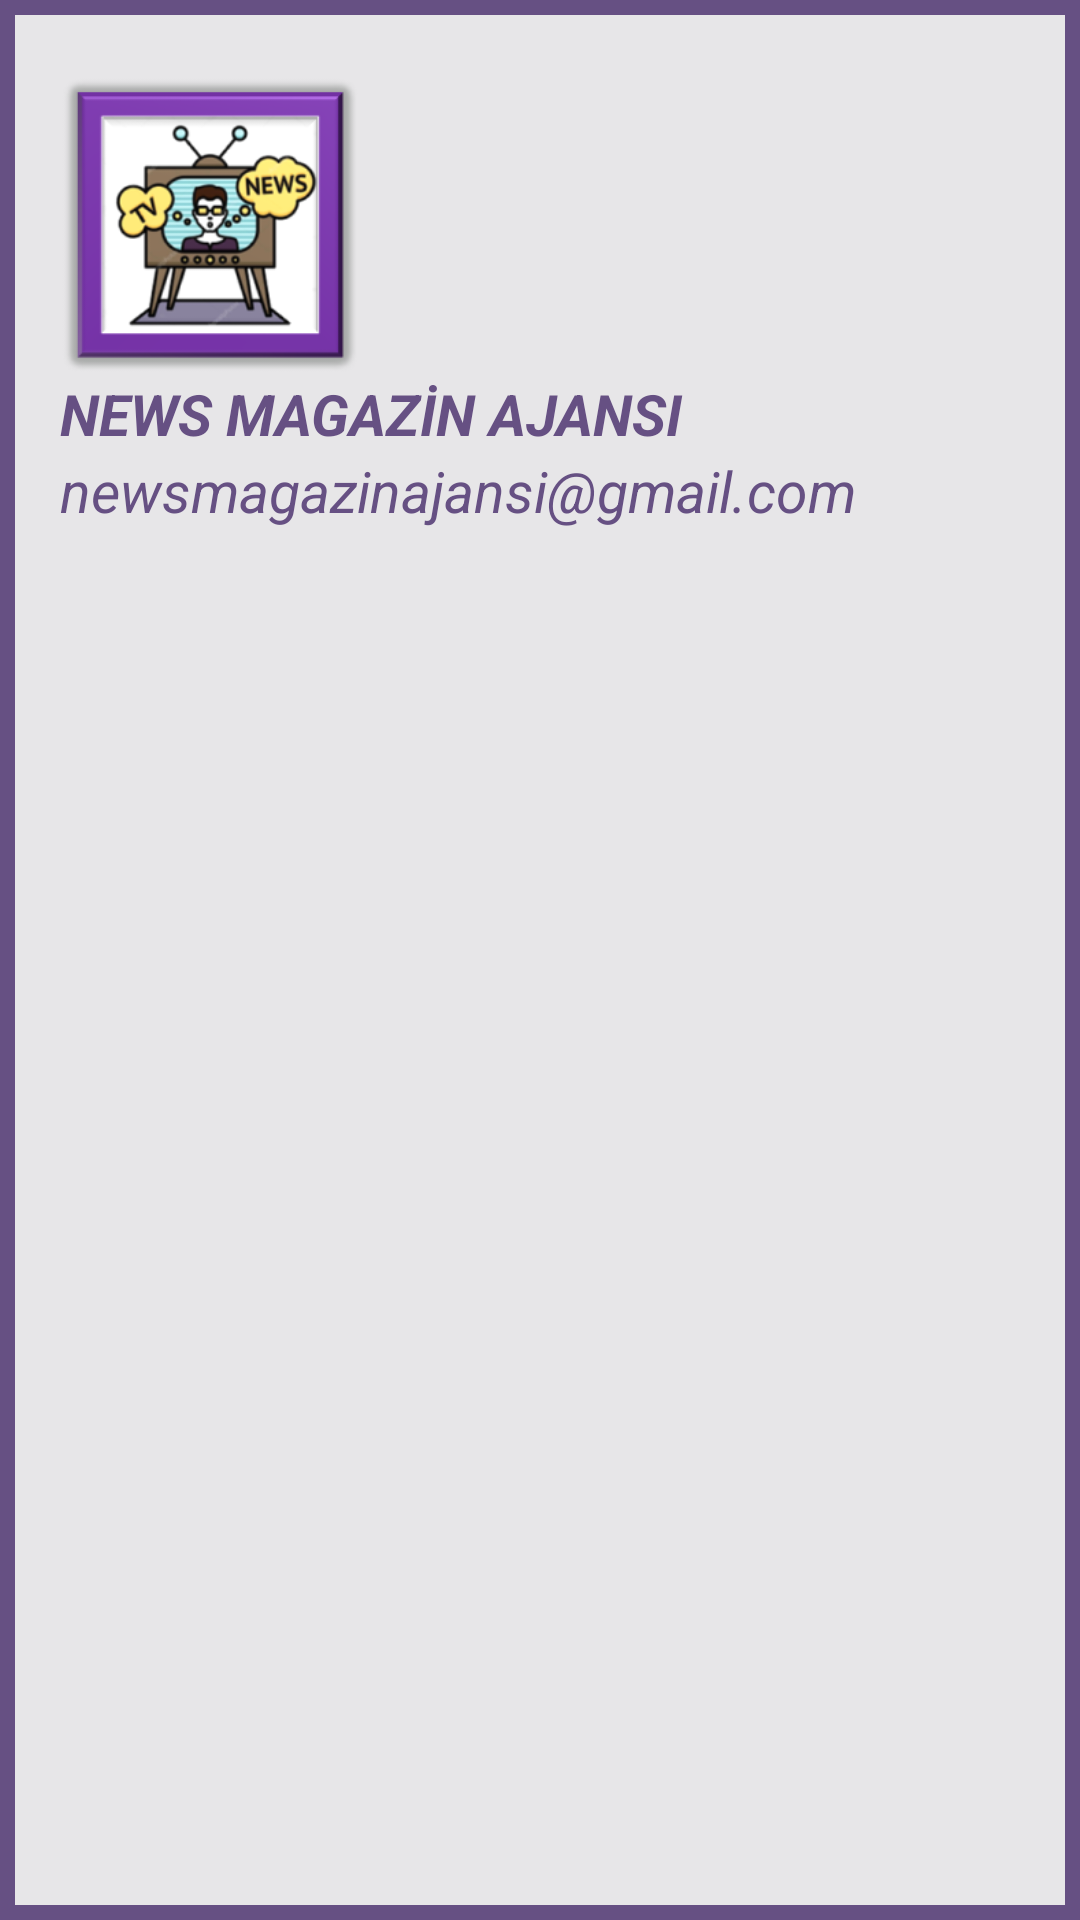

Icons on this 1080×1920 Android screen, each with the point to tap as (x=x, y=y):
resim: (x=210, y=225)
